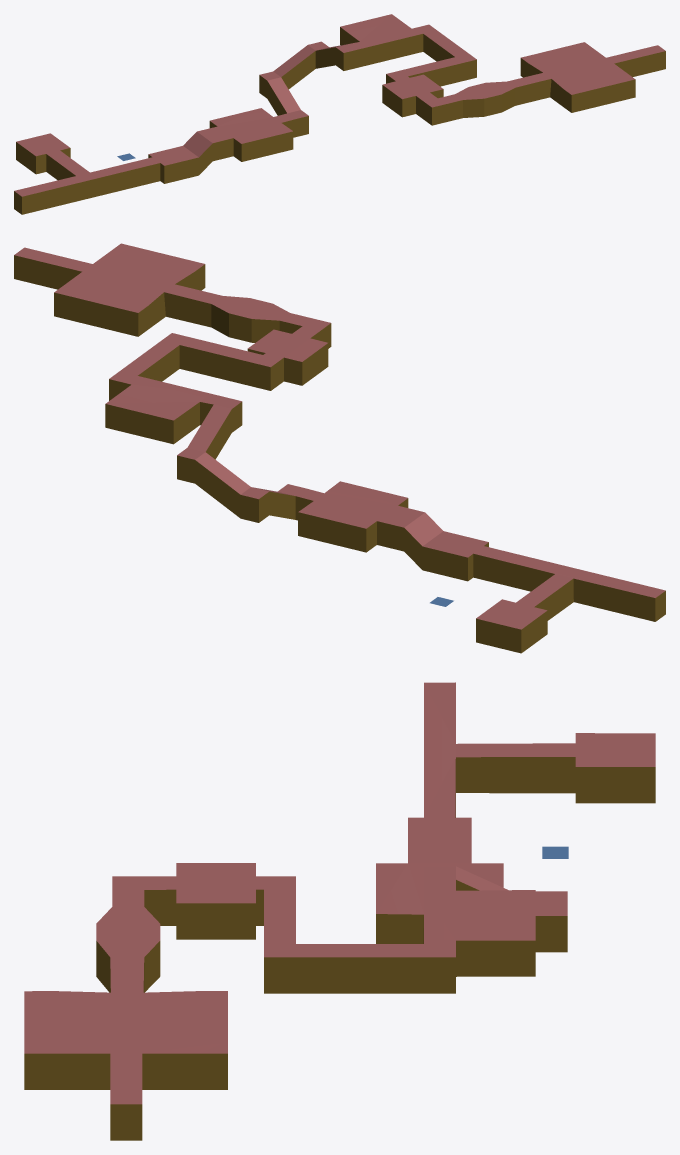
Rendered from Nv1_RailSh_ESATOYHARTAAAFNCASVBGS.fbx.
3 views of the same model, one above another, from view 1: azimuth 30°, elevation 25°; view 2: azimuth 150°, elevation 25°; view 3: azimuth 270°, elevation 25° (orthographic). The views are drawn at different scales.
Visible parts, largest first — view 1: polySurface8; view 2: polySurface8; view 3: polySurface8.
Boxes of the visible parts, x1=… form: polySurface8: x1=14, y1=14, x2=665, y2=214; polySurface8: x1=14, y1=243, x2=665, y2=653; polySurface8: x1=24, y1=682, x2=655, y2=1140.
Bounding box in the file's own units: 164 × 23.01 × 79.
